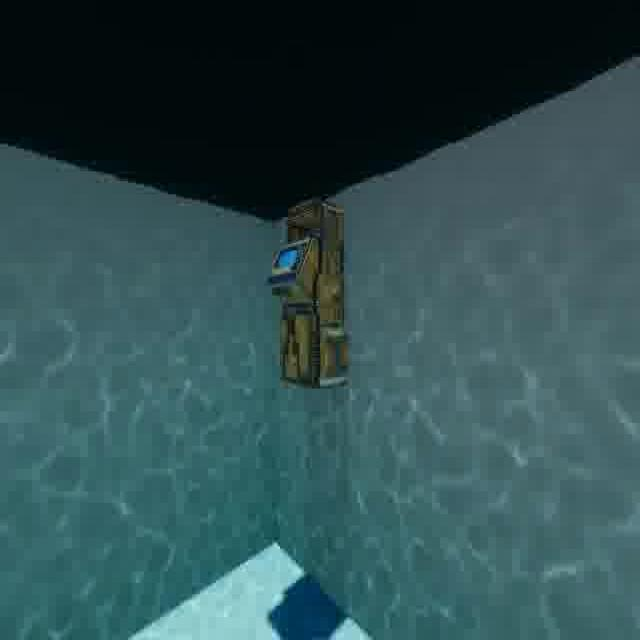Control Panel: (260, 192, 357, 398)
